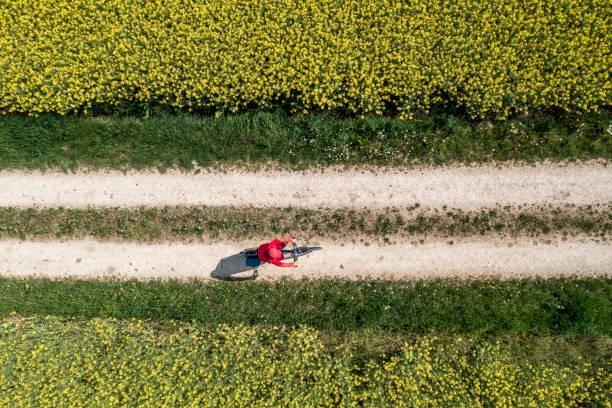Motorcycle: (246, 234, 335, 267)
